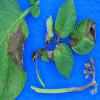Potato leaf late blight: (0, 0, 29, 95), (70, 18, 97, 56), (54, 0, 77, 39), (53, 42, 75, 80), (45, 15, 55, 44)
